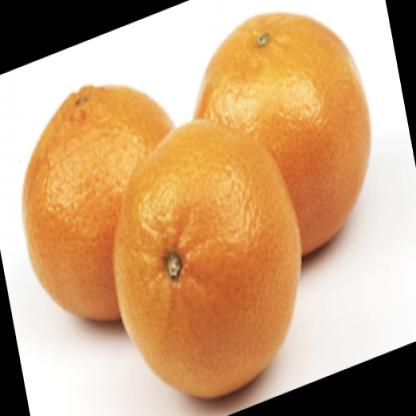orange: (111, 117, 304, 404), (185, 13, 372, 244), (18, 68, 174, 338)
